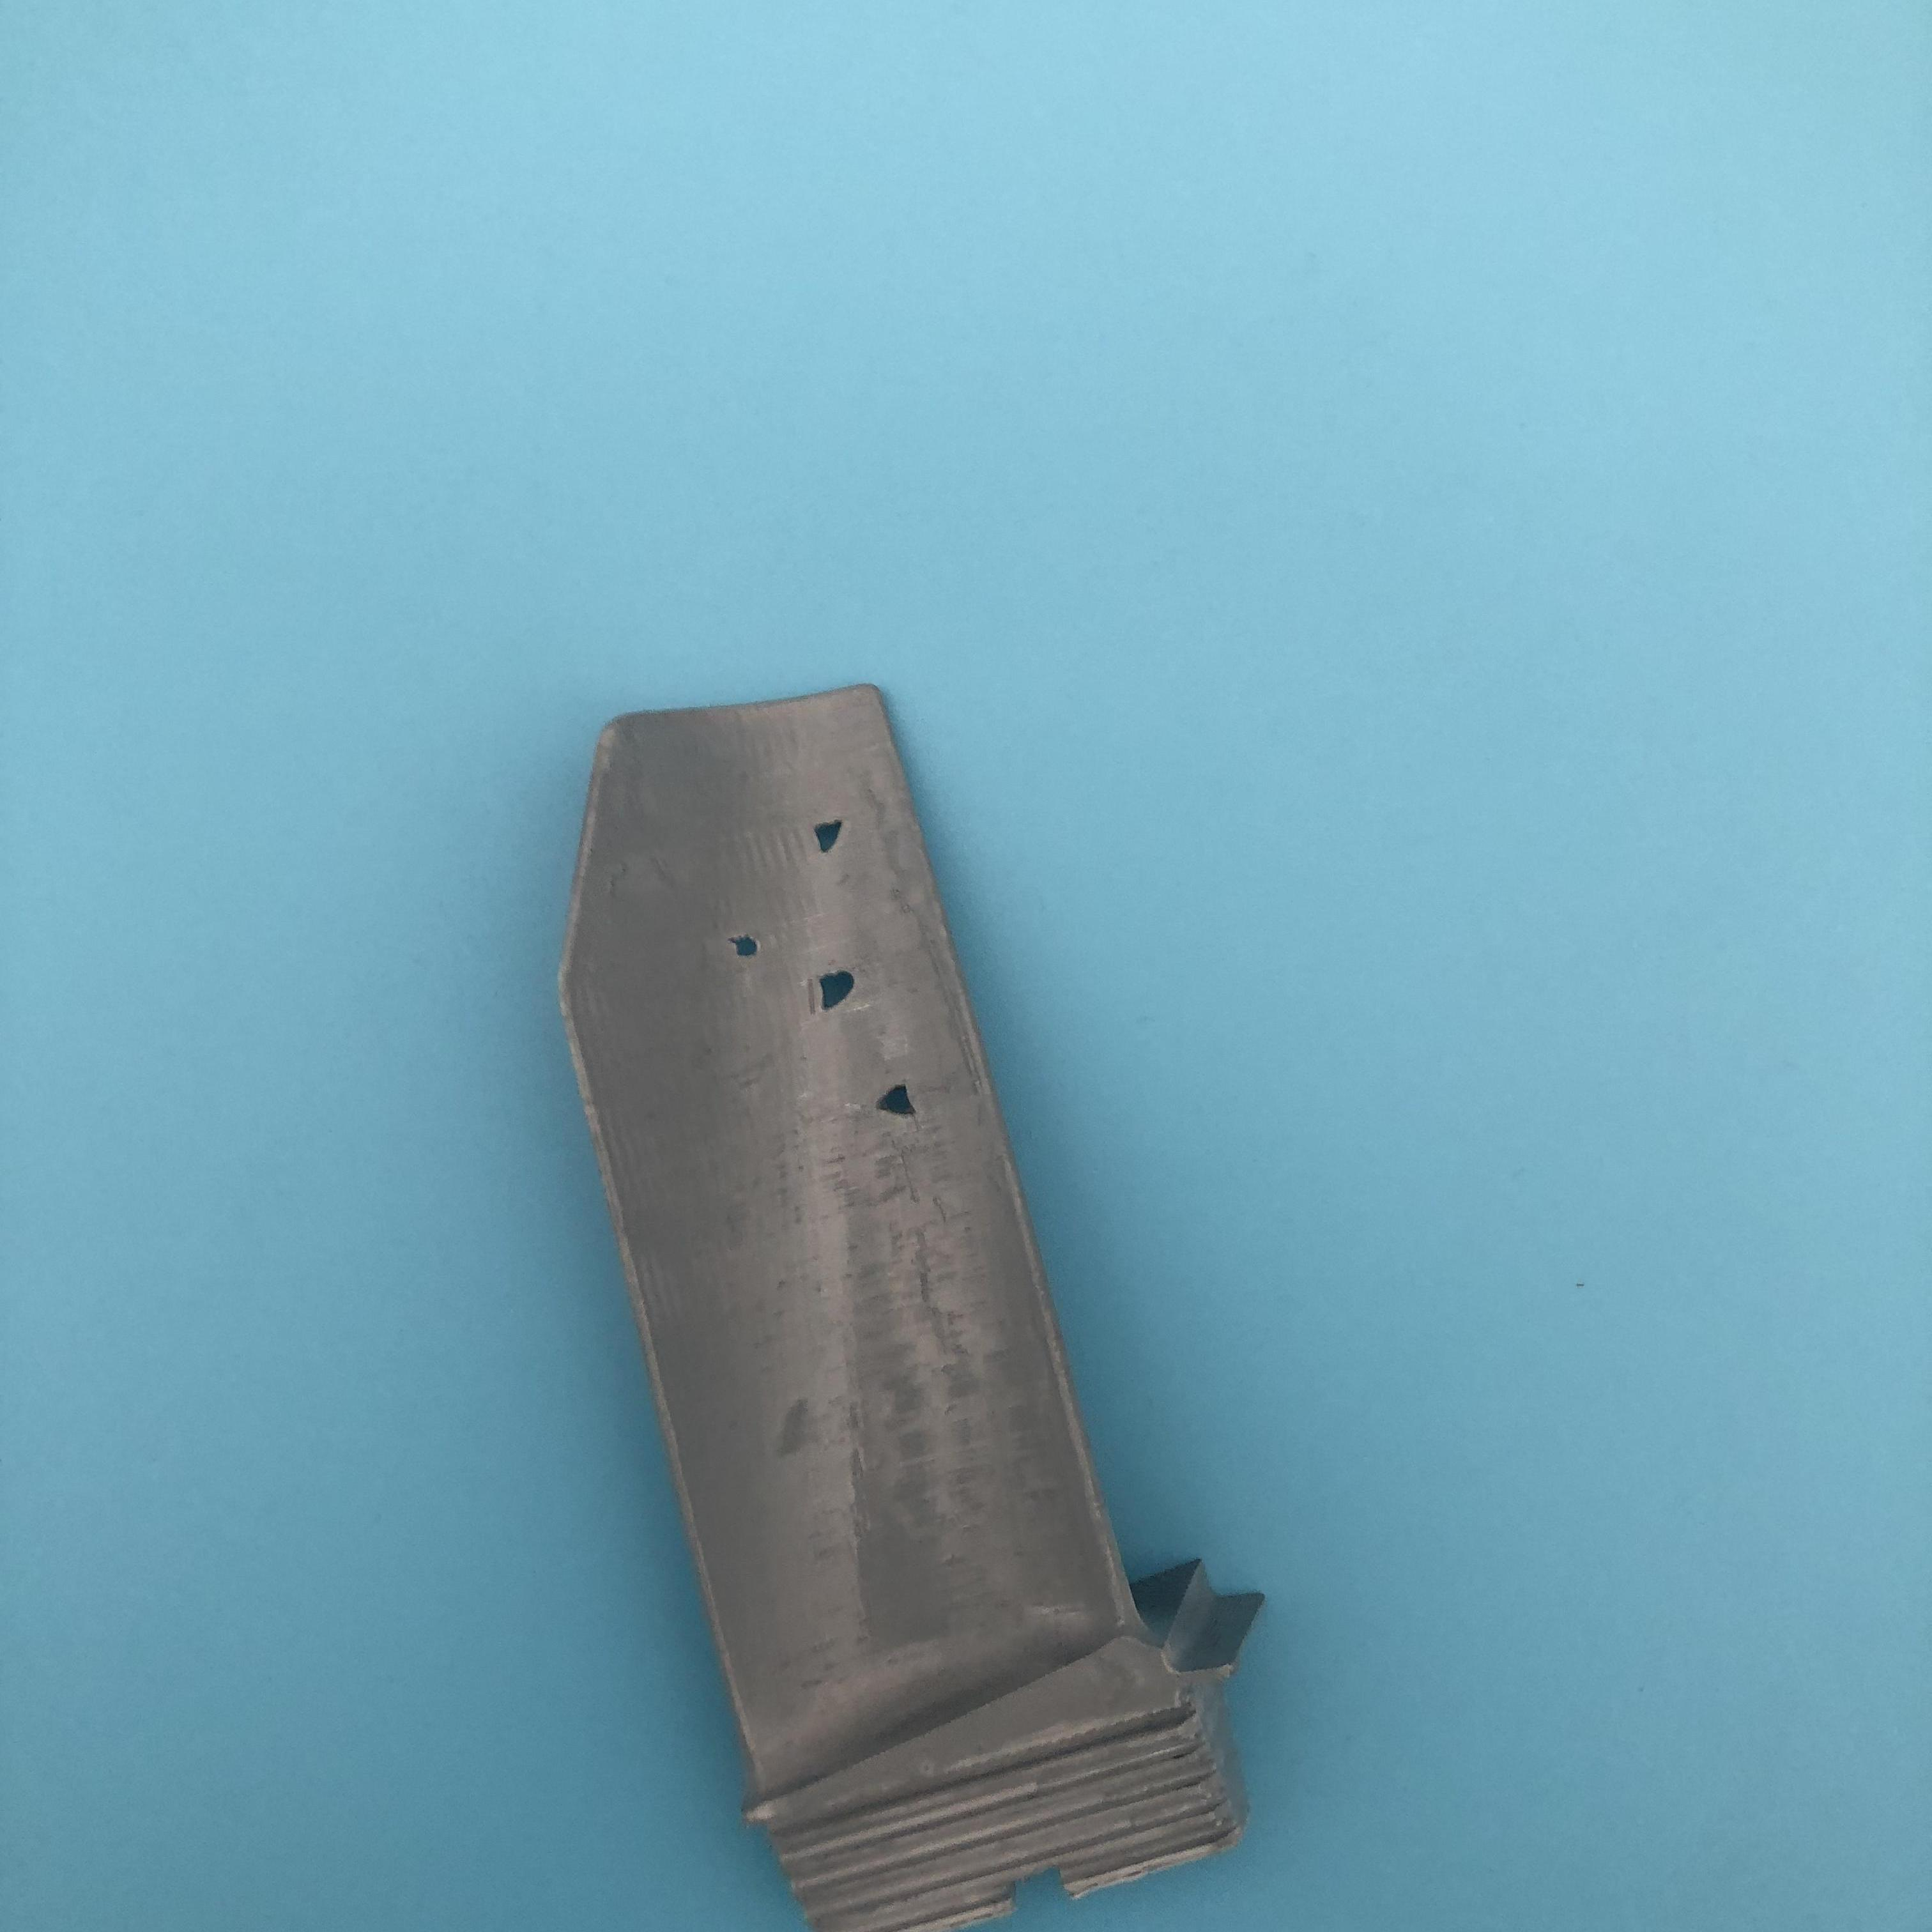breakdown: (736, 814, 931, 1129)
